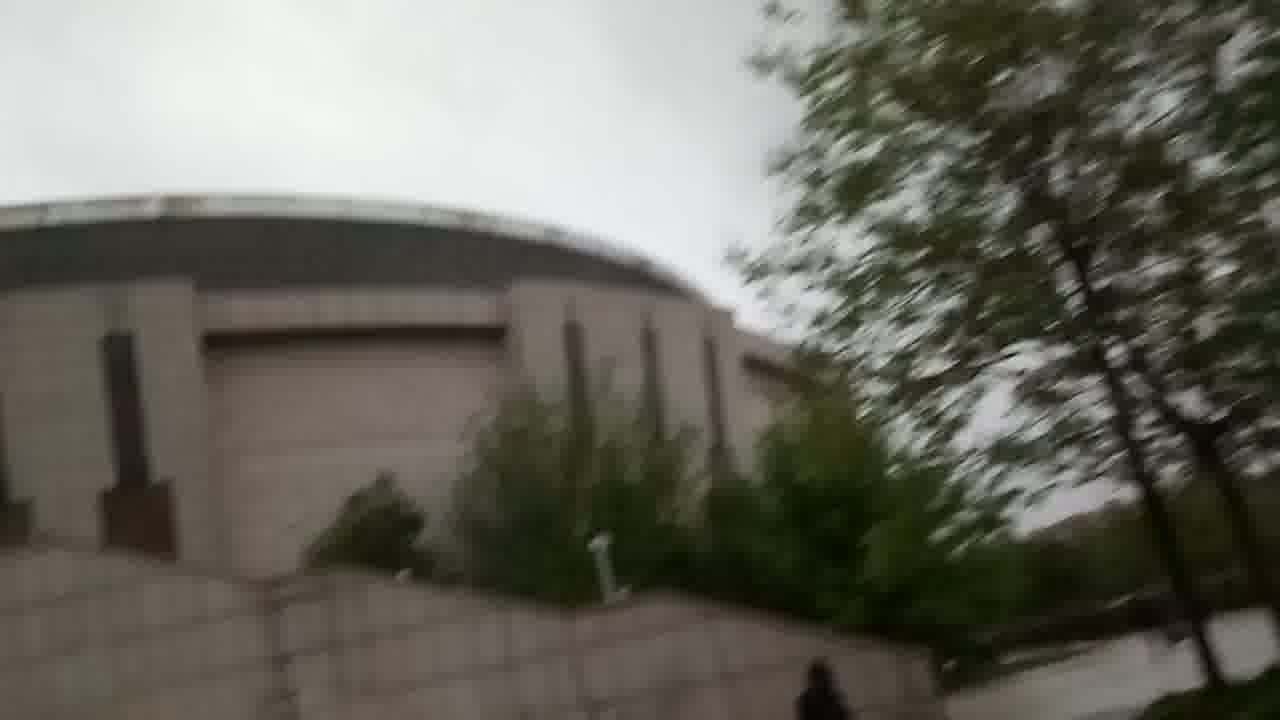zhongtiww: (6, 189, 949, 720)
